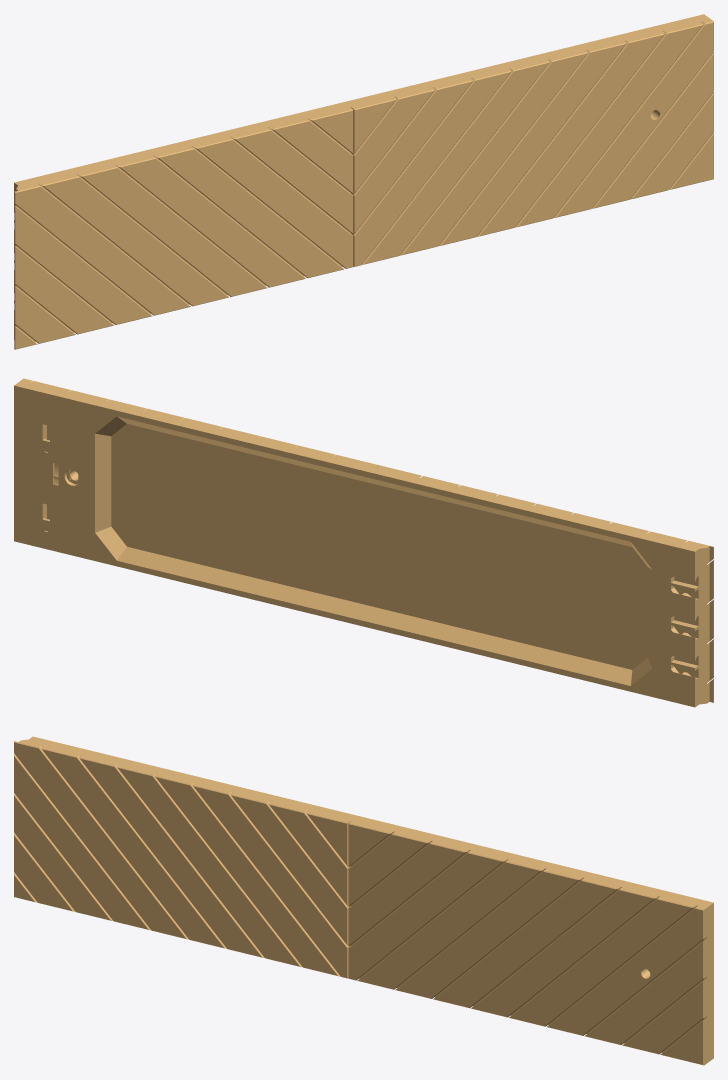
The model's file is Door_Chevron_3W-1H.lib.glb.
The picture shows the model from 3 angles, top to bottom: view 1: azimuth 30°, elevation 25°; view 2: azimuth 150°, elevation 25°; view 3: azimuth 330°, elevation 25°; orthographic projection.
Parts seen in each view (by area): view 1: Door_Chevron_3W-1H; view 2: Door_Chevron_3W-1H; view 3: Door_Chevron_3W-1H.
Boxes of the visible parts, bbox=[...] form: Door_Chevron_3W-1H: bbox=[14, 14, 713, 349]; Door_Chevron_3W-1H: bbox=[14, 378, 713, 707]; Door_Chevron_3W-1H: bbox=[14, 736, 713, 1065].
Bounding box in the file's own units: 255 × 55.01 × 6.51.
